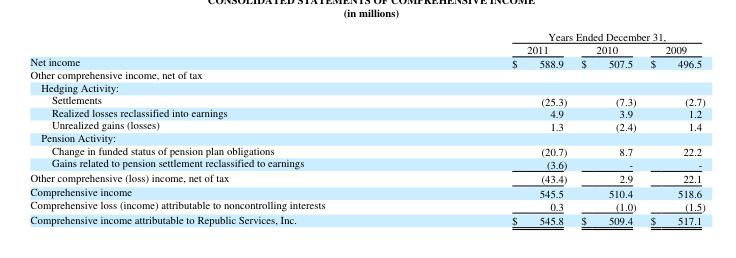table: (29, 28, 704, 227)
table column: (29, 28, 417, 227), (417, 28, 573, 227), (573, 28, 642, 227), (642, 28, 704, 227)
table column header: (29, 28, 704, 54)
table projected row header: (29, 68, 704, 80), (29, 80, 704, 92), (29, 131, 704, 143)
table row: (29, 211, 704, 227), (29, 28, 704, 42), (29, 54, 704, 68), (29, 92, 704, 106), (29, 156, 704, 170), (29, 170, 704, 184), (29, 184, 704, 198), (29, 118, 704, 131), (29, 143, 704, 156), (29, 198, 704, 211), (29, 42, 704, 54), (29, 68, 704, 80), (29, 80, 704, 92), (29, 106, 704, 118), (29, 131, 704, 143)
table spanning cell: (417, 28, 704, 42)
